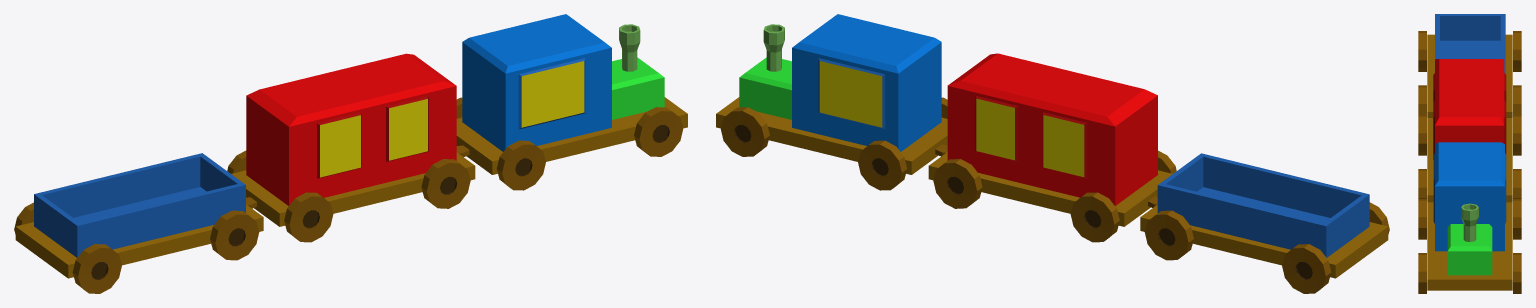
Rendered from ToyTrain.fbx.
3 renders of one model, left to right at view 1: azimuth 30°, elevation 25°; view 2: azimuth 150°, elevation 25°; view 3: azimuth 270°, elevation 25°, orthographic. The views are drawn at different scales.
Parts seen in each view (by area): view 1: Train_middle_cabin, Train_main, Train_Back_holder, Train_Middle_wheel, Train_back_wheel, Train_main_wheel, Train_main_base, Train_Back_base, Train_middle_base, Train_Smokething; view 2: Train_middle_cabin, Train_main, Train_Back_holder, Train_back_wheel, Train_Middle_wheel, Train_main_wheel, Train_main_base, Train_Back_base, Train_middle_base, Train_Smokething; view 3: Train_main, Train_middle_cabin, Train_Back_holder, Train_main_base, Train_main_wheel, Train_Middle_wheel, Train_back_wheel, Train_Back_base, Train_middle_base, Train_Smokething.
Boxes of the visible parts, x1,y1,x2,y2 form: Train_middle_cabin: [246, 53, 456, 205]; Train_main: [462, 14, 664, 151]; Train_Back_holder: [34, 153, 245, 257]; Train_Middle_wheel: [227, 150, 470, 242]; Train_back_wheel: [14, 202, 259, 293]; Train_main_wheel: [456, 97, 683, 190]; Train_main_base: [456, 97, 687, 174]; Train_Back_base: [15, 204, 263, 278]; Train_middle_base: [231, 152, 475, 226]; Train_Smokething: [619, 24, 640, 71]; Train_middle_cabin: [947, 53, 1157, 205]; Train_main: [739, 14, 941, 151]; Train_Back_holder: [1157, 153, 1369, 257]; Train_back_wheel: [1144, 202, 1389, 293]; Train_Middle_wheel: [933, 150, 1176, 242]; Train_main_wheel: [720, 97, 947, 190]; Train_main_base: [716, 97, 947, 174]; Train_Back_base: [1140, 205, 1388, 278]; Train_middle_base: [928, 152, 1172, 226]; Train_Smokething: [763, 24, 784, 71]; Train_main: [1433, 142, 1506, 275]; Train_middle_cabin: [1433, 59, 1506, 159]; Train_Back_holder: [1435, 14, 1505, 73]; Train_main_base: [1427, 202, 1512, 290]; Train_main_wheel: [1418, 198, 1521, 293]; Train_Middle_wheel: [1418, 114, 1521, 198]; Train_back_wheel: [1418, 31, 1521, 114]; Train_Back_base: [1427, 34, 1512, 117]; Train_middle_base: [1427, 118, 1512, 202]; Train_Smokething: [1461, 203, 1478, 241].
Size of the model in its own units: 95.43 by 17.11 by 17.06.
